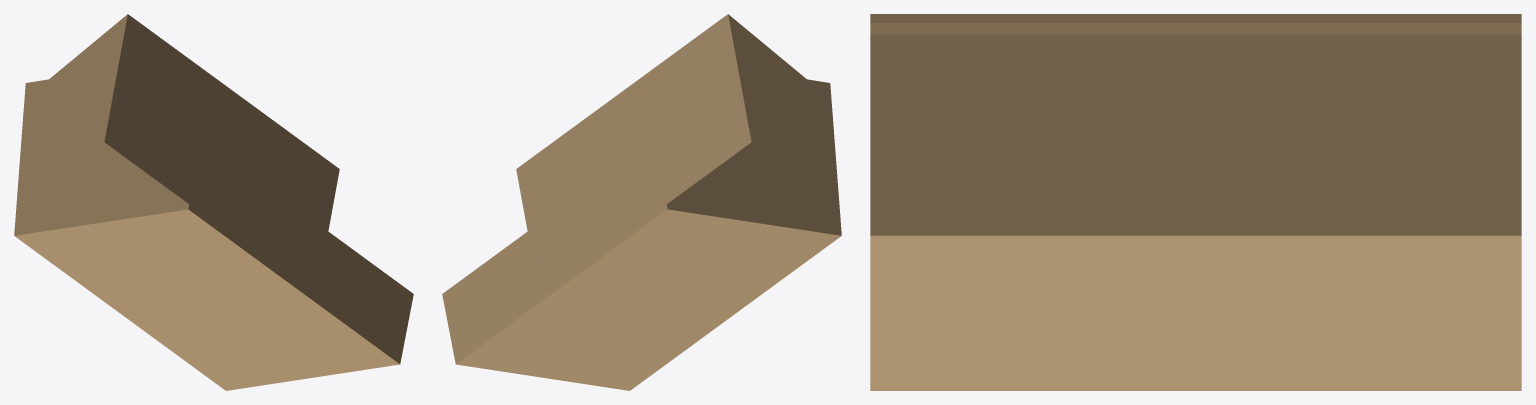
3 views of the same model, side by side, from view 1: azimuth 30°, elevation 25°; view 2: azimuth 150°, elevation 25°; view 3: azimuth 270°, elevation 25° (orthographic). The views are drawn at different scales.
Visible parts, largest first — view 1: 0_3_2_0_2_2_2_0_2; view 2: 0_3_2_0_2_2_2_0_2; view 3: 0_3_2_0_2_2_2_0_2.
Boxes of the visible parts, box(x1,y1,x2,y2) form: 0_3_2_0_2_2_2_0_2: box(14, 14, 413, 390); 0_3_2_0_2_2_2_0_2: box(442, 14, 841, 390); 0_3_2_0_2_2_2_0_2: box(870, 14, 1521, 390).
Bounding box in the file's own units: 15.35 × 16.41 × 30.
